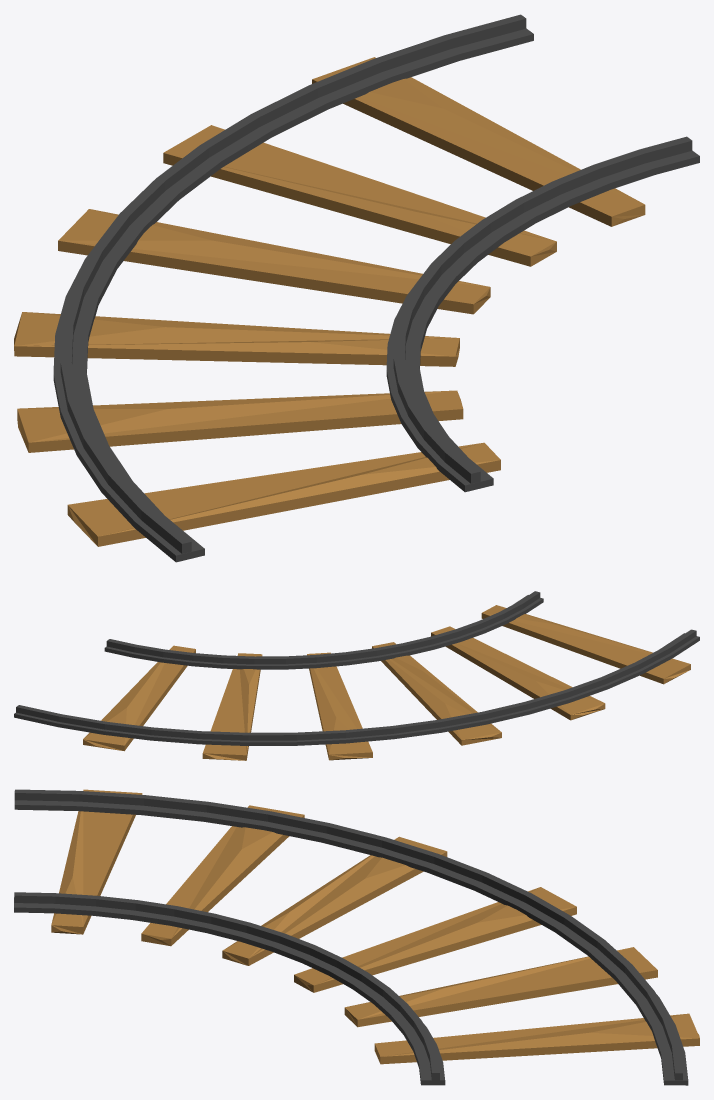
Rendered from Model_Track_Turn90.FBX.
3 views of the same model, one above another, from view 1: azimuth 30°, elevation 25°; view 2: azimuth 150°, elevation 25°; view 3: azimuth 270°, elevation 25° (orthographic). The views are drawn at different scales.
Parts seen in each view (by area): view 1: Track_Turn; view 2: Track_Turn; view 3: Track_Turn.
Boxes of the visible parts, <box> form: Track_Turn: <box>14,14,699,562</box>; Track_Turn: <box>14,591,699,760</box>; Track_Turn: <box>14,789,699,1085</box>.
Size of what is drawn, in the model's own units: 437 by 14.2 by 426.
